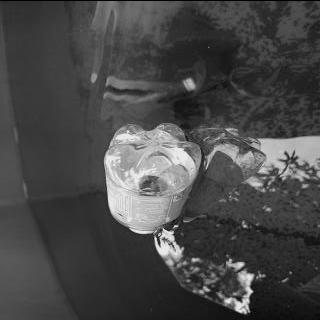bottle: (104, 120, 202, 234)
